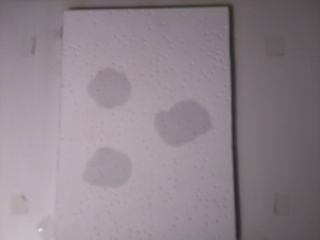Water_detected: (155, 101, 197, 140), (96, 154, 122, 190), (96, 74, 122, 110)
